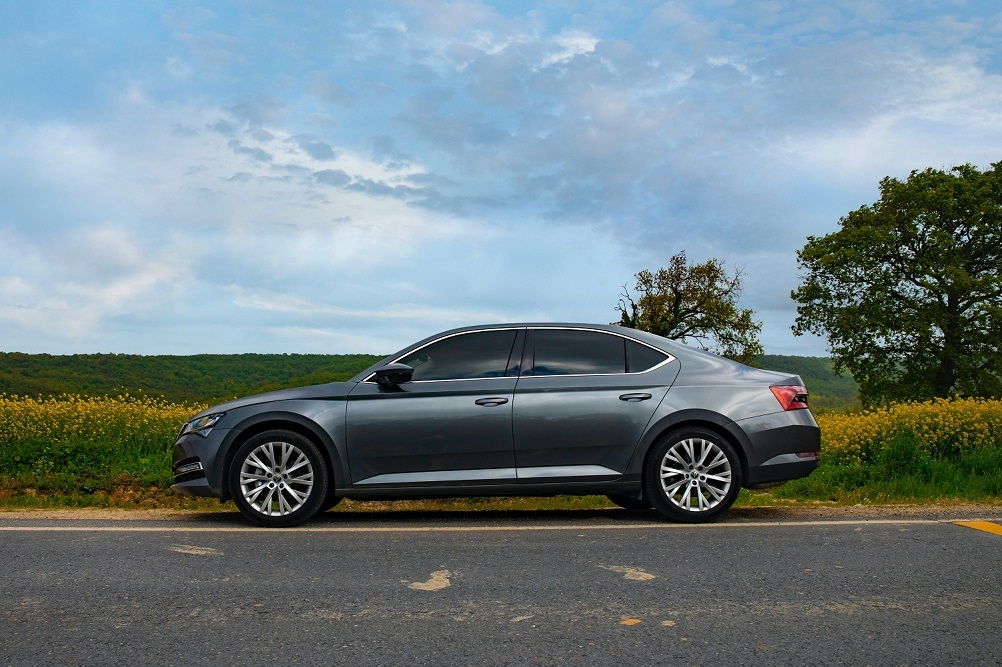car: (163, 318, 828, 523)
